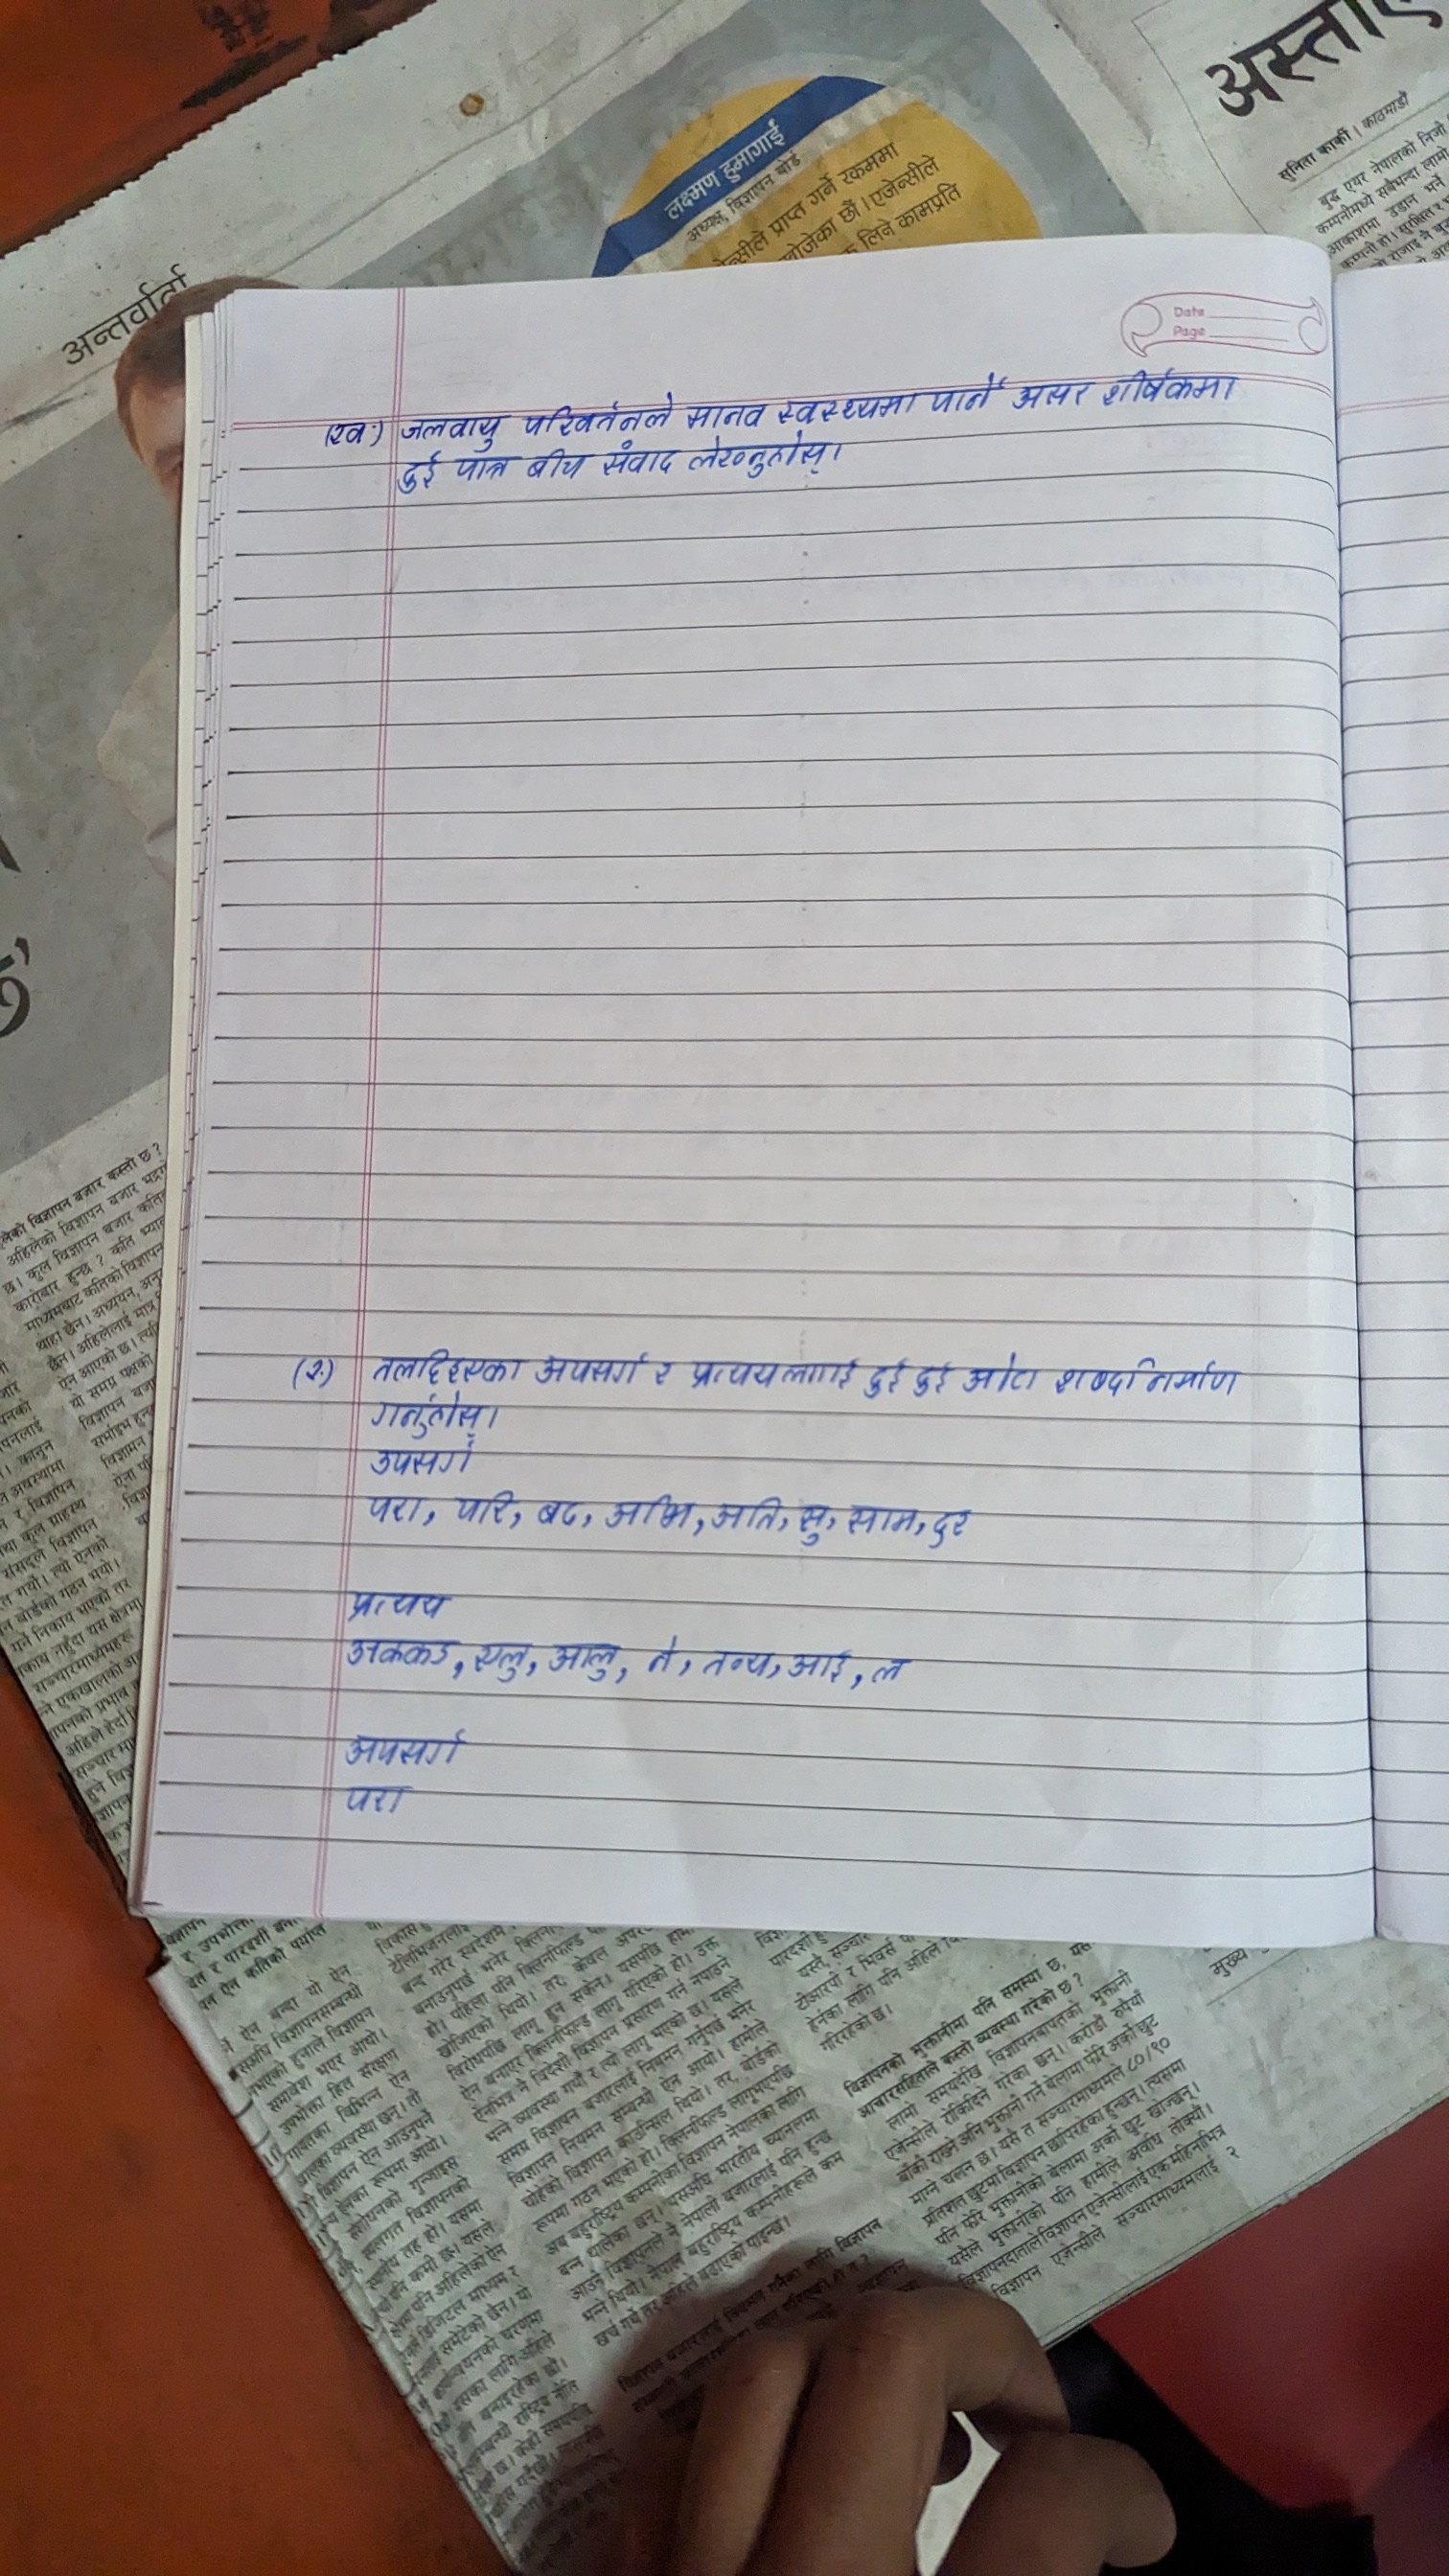text: (1053, 1352, 1249, 1396), (688, 1345, 856, 1392), (688, 435, 846, 485), (517, 387, 676, 435), (1100, 364, 1235, 416), (370, 1348, 520, 1391), (361, 1392, 511, 1435), (341, 1720, 469, 1767), (773, 384, 916, 425), (354, 1437, 504, 1474), (534, 1345, 648, 1387), (396, 407, 501, 448), (927, 1500, 994, 1559), (333, 1635, 451, 1667), (327, 1780, 432, 1815), (340, 1585, 455, 1617), (607, 1491, 692, 1534), (462, 1635, 536, 1683), (547, 1637, 621, 1684), (920, 375, 1005, 416), (1008, 375, 1093, 416), (701, 1497, 786, 1537), (964, 1352, 1037, 1398), (685, 391, 768, 430), (598, 439, 674, 481), (844, 1500, 924, 1539), (704, 1644, 775, 1684), (784, 1644, 855, 1684), (522, 1488, 586, 1530), (364, 1486, 428, 1527), (449, 1486, 513, 1527), (867, 1647, 916, 1693), (529, 446, 582, 487), (453, 451, 508, 490), (329, 412, 377, 455), (796, 1500, 839, 1548), (395, 451, 441, 494), (865, 1350, 904, 1398), (911, 1352, 948, 1399), (646, 1628, 676, 1674), (303, 1346, 329, 1385), (653, 1352, 676, 1396)
